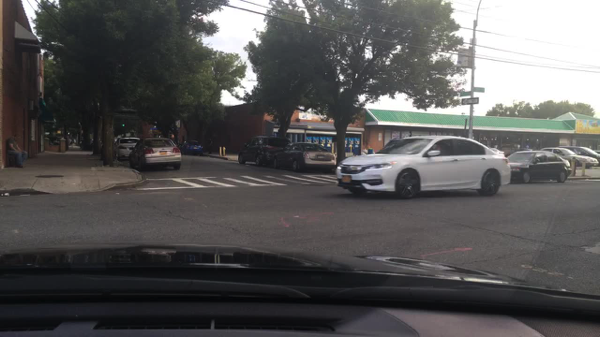car: (336, 135, 511, 200), (507, 150, 571, 184), (128, 137, 182, 171), (273, 142, 336, 171), (237, 137, 291, 167), (540, 146, 598, 168), (556, 145, 599, 166), (114, 137, 140, 161), (180, 140, 204, 156), (87, 138, 103, 152), (500, 147, 517, 157), (490, 148, 506, 157), (111, 137, 121, 147), (52, 137, 64, 144), (518, 148, 534, 152), (79, 139, 84, 148), (593, 150, 599, 154)
person: (6, 134, 29, 168), (208, 139, 213, 154), (71, 139, 75, 150)
traffic light: (122, 122, 125, 127)
traffic sign: (461, 97, 479, 105), (473, 87, 485, 93), (460, 91, 471, 96)
